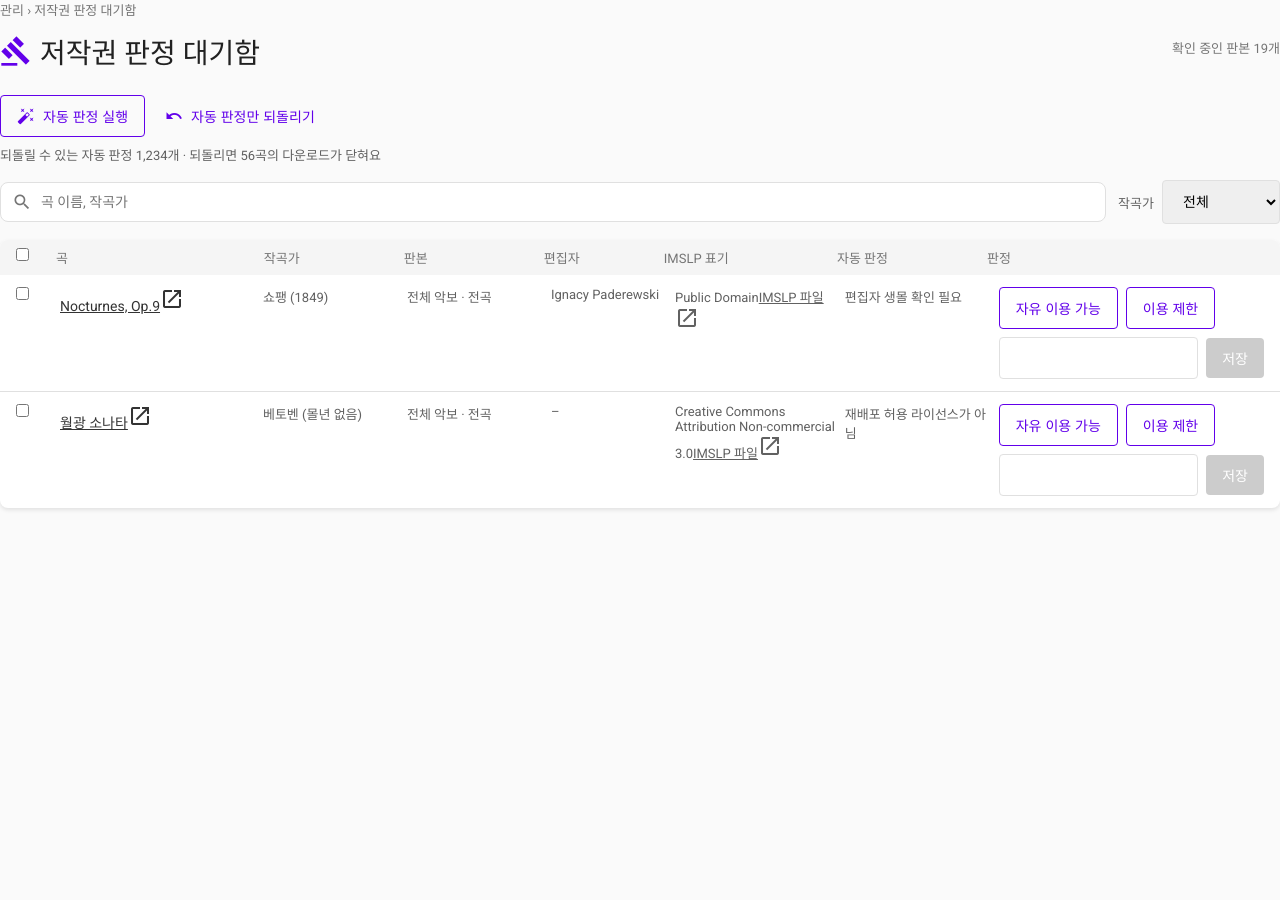
Test: 대기함 — 되돌리기 확인 모달의 숫자 (02 §5-8-1 문구 표) › 잔량 줄과 모달이 같은 값을 말한다 — 예고가 두 벌이면 다음에 한쪽만 고쳐진다
Click the button "자동 판정만 되돌리기" at (240, 116), box [153,98,327,134]
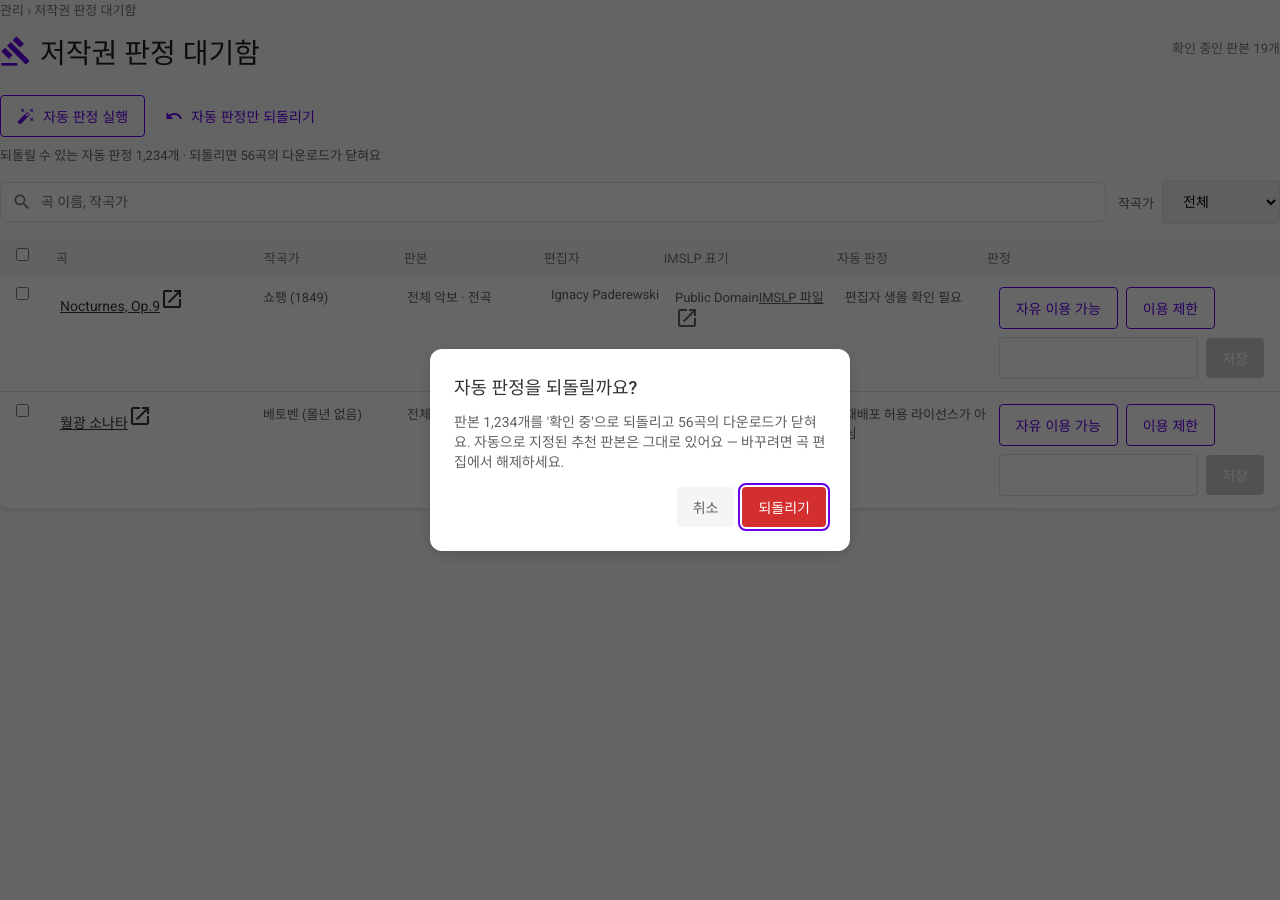
Now the dialog is shown, box [430,349,850,551]
Now the dialog shows "판본 1,234개를 '확인 중'으로 되돌리고 56곡의 다운로드가 닫혀요", box [454,414,825,470]
